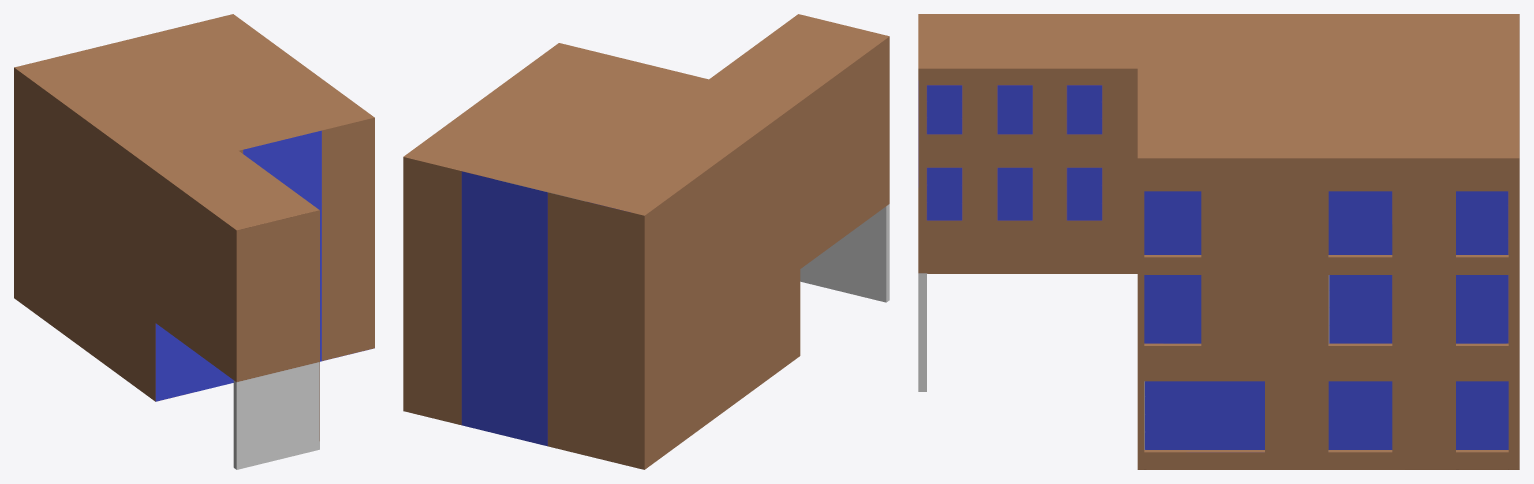
File: hfu.glb
3 views of the same model, side by side, from view 1: azimuth 30°, elevation 25°; view 2: azimuth 150°, elevation 25°; view 3: azimuth 270°, elevation 25° (orthographic). The views are drawn at different scales.
Visible parts, largest first — view 1: Cube; view 2: Cube; view 3: Cube.
Boxes of the visible parts, <box> form: Cube: <box>14,14,374,469</box>; Cube: <box>403,14,889,469</box>; Cube: <box>918,14,1519,469</box>.
Size of the model in its own units: 4.9 by 5.12 by 8.63.
Materials: 1 (1 with a texture image).
